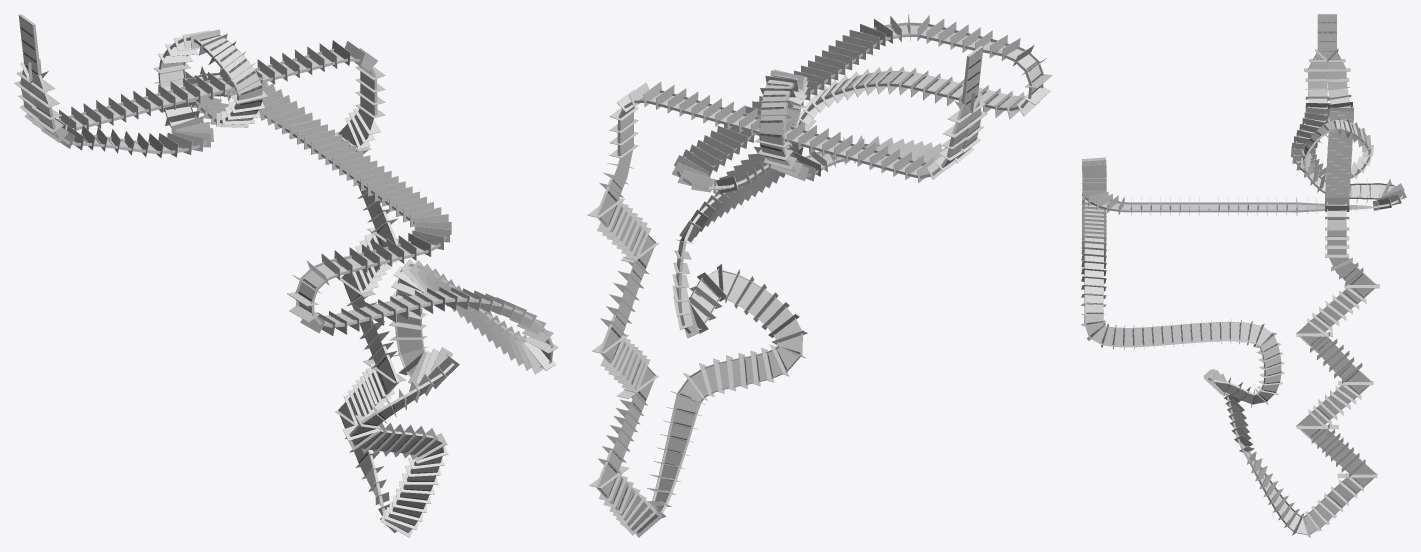
The model's file is Track7.fbx.
3 renders of one model, left to right at view 1: azimuth 30°, elevation 25°; view 2: azimuth 150°, elevation 25°; view 3: azimuth 270°, elevation 25°, orthographic. The views are drawn at different scales.
Visible parts, largest first — view 1: TrackHolo, TrackWallsAI, TrackFloor, TrackStructure; view 2: TrackHolo, TrackWallsAI, TrackFloor, TrackStructure; view 3: TrackHolo, TrackFloor, TrackWallsAI, TrackStructure.
Part boxes in pixels (box(x1,y1,x2,y2)): TrackHolo: box(19, 16, 509, 532); TrackWallsAI: box(18, 14, 553, 532); TrackFloor: box(60, 53, 550, 505); TrackStructure: box(19, 15, 549, 532); TrackHolo: box(599, 25, 1040, 532); TrackWallsAI: box(595, 22, 1043, 529); TrackFloor: box(613, 25, 1029, 523); TrackStructure: box(598, 25, 1041, 532); TrackHolo: box(1085, 15, 1378, 533); TrackFloor: box(1085, 15, 1394, 533); TrackWallsAI: box(1084, 14, 1403, 534); TrackStructure: box(1084, 22, 1394, 535).
Bounding box in the file's own units: 59767 × 92092 × 67172.
